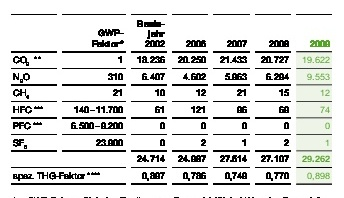table: (0, 0, 344, 198)
